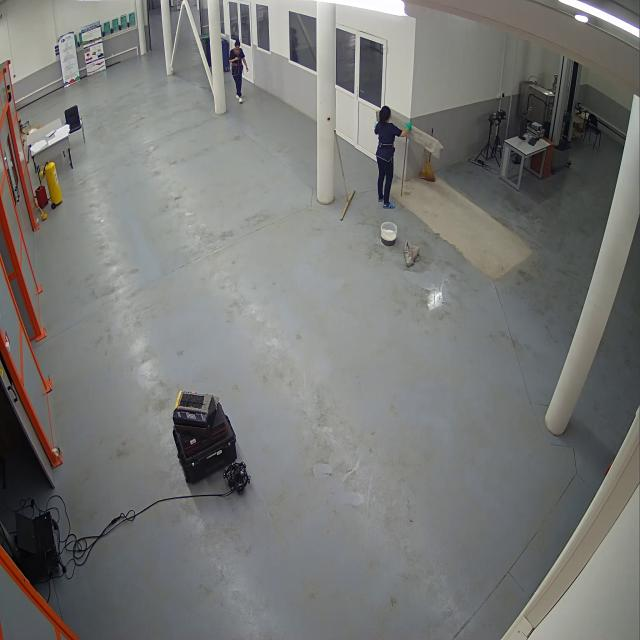NO-Hardhat: (379, 105, 391, 116), (234, 38, 240, 46)
Person: (370, 99, 414, 212), (228, 32, 255, 104)
